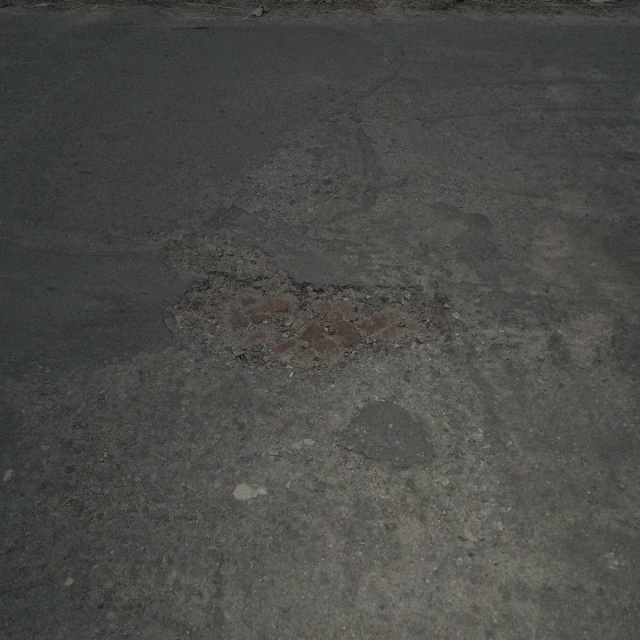pothole: (159, 270, 452, 378)
